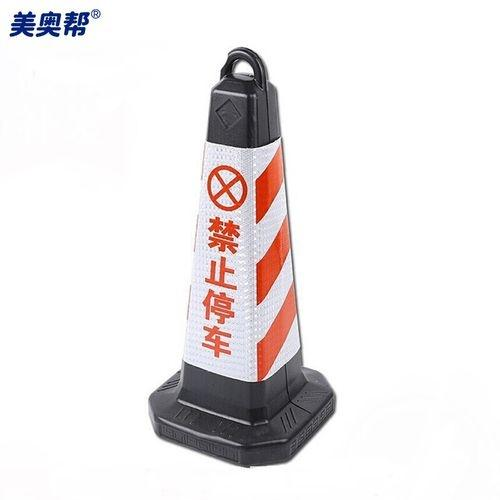cone_barrel: (146, 46, 340, 461)
